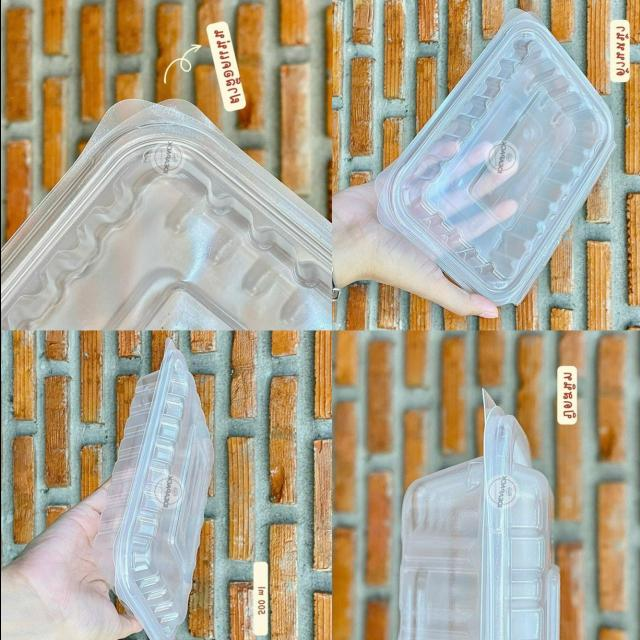plastik: (0, 99, 331, 330), (374, 9, 614, 306), (398, 390, 558, 640), (93, 340, 212, 640)
